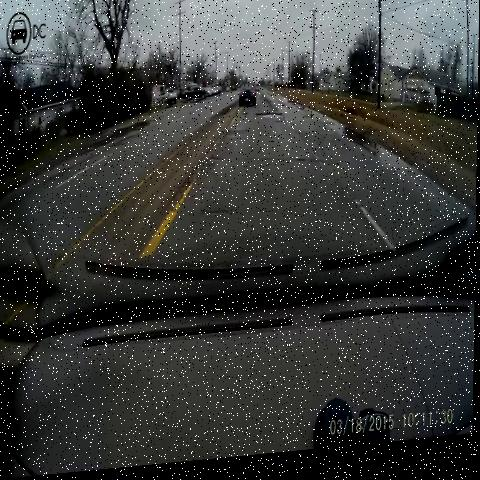pothole: (197, 201, 237, 237), (252, 110, 292, 137), (289, 151, 315, 182), (204, 152, 224, 176)
